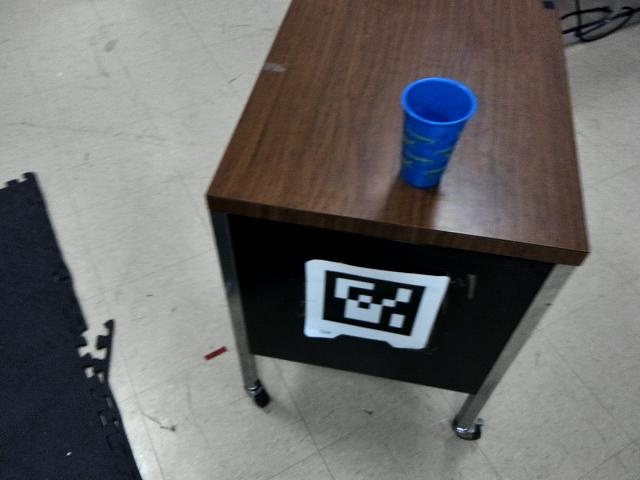water_cup: (389, 69, 479, 197)
